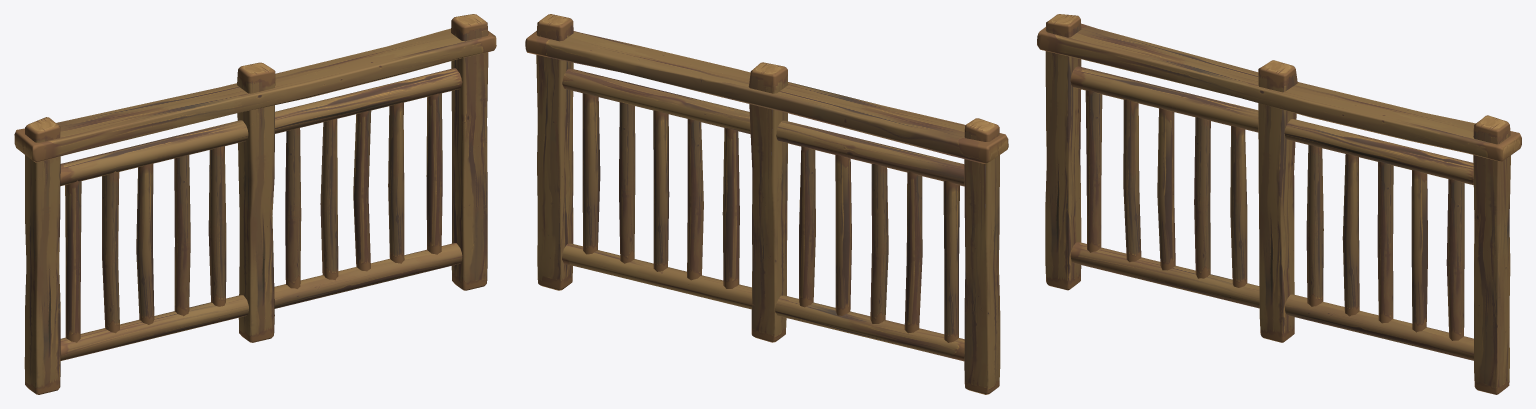
Rendered from SM_MOD_railing_town_03_01.fbx.
The picture shows the model from 3 angles, left to right: view 1: azimuth 30°, elevation 25°; view 2: azimuth 150°, elevation 25°; view 3: azimuth 330°, elevation 25°; orthographic projection.
Parts seen in each view (by area): view 1: SM_MOD_railing_town_03_01_LOD0; view 2: SM_MOD_railing_town_03_01_LOD0; view 3: SM_MOD_railing_town_03_01_LOD0.
Part boxes in pixels (x1,y1,x2,y2): SM_MOD_railing_town_03_01_LOD0: (14,14,496,394); SM_MOD_railing_town_03_01_LOD0: (525,14,1008,394); SM_MOD_railing_town_03_01_LOD0: (1037,14,1521,394).
Size of what is drawn, in the model's own units: 200 by 111 by 16.59.
